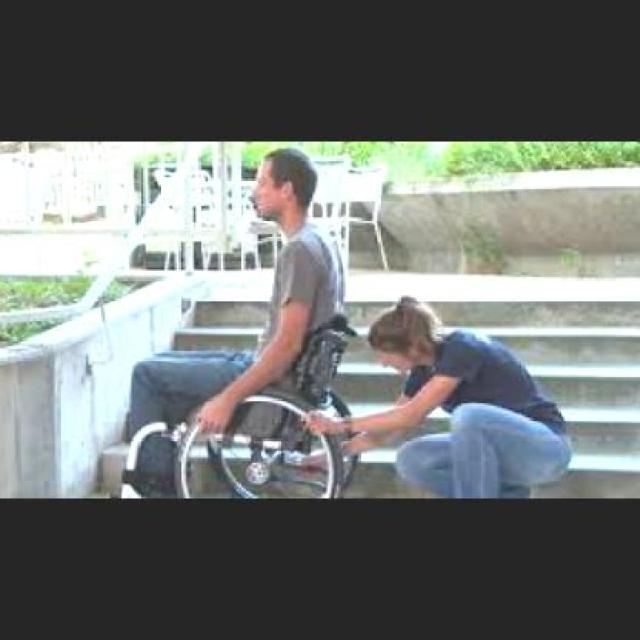wheelchairs: (116, 309, 366, 496)
